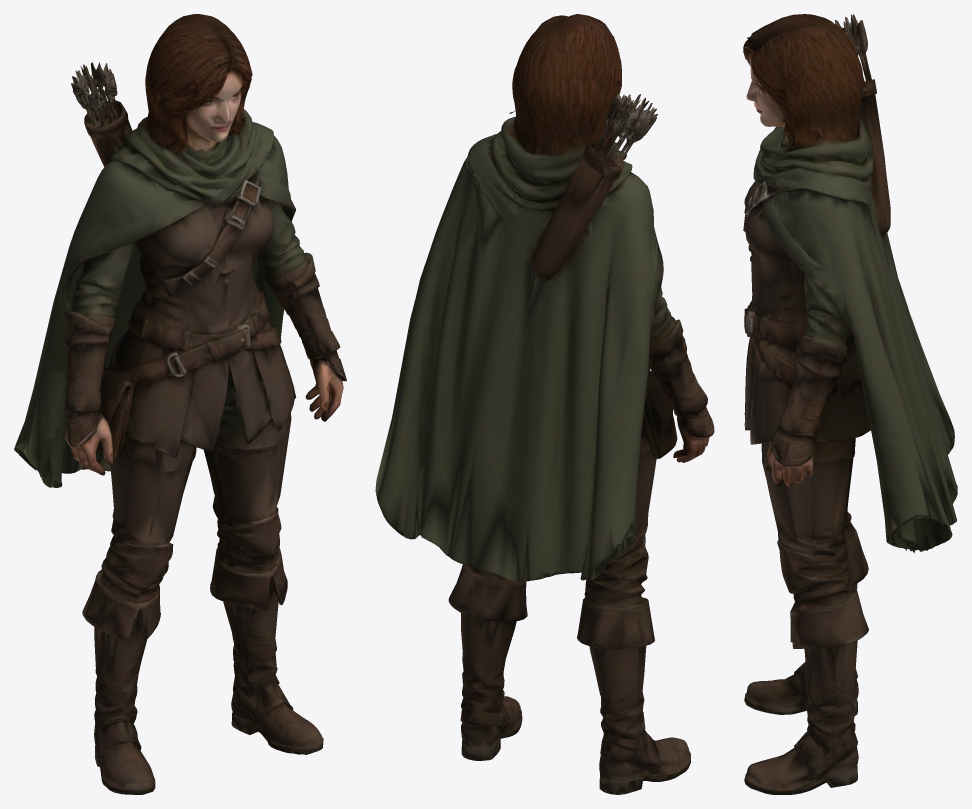
The model's file is female_ai.glb.
3 views of the same model, side by side, from view 1: azimuth 30°, elevation 25°; view 2: azimuth 150°, elevation 25°; view 3: azimuth 270°, elevation 25° (orthographic).
Parts seen in each view (by area): view 1: node_0; view 2: node_0; view 3: node_0.
Part boxes in pixels (x1=…): node_0: x1=14, y1=14, x2=346, y2=794; node_0: x1=375, y1=14, x2=714, y2=794; node_0: x1=743, y1=14, x2=957, y2=794.
Bounding box in the file's own units: 0.442 × 1.13 × 0.3026.
1 material, 1 textured.
